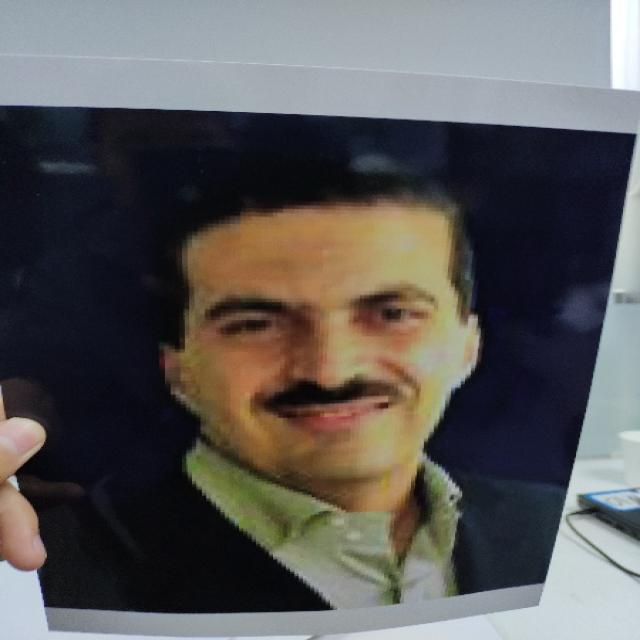photo: (3, 48, 637, 639)
